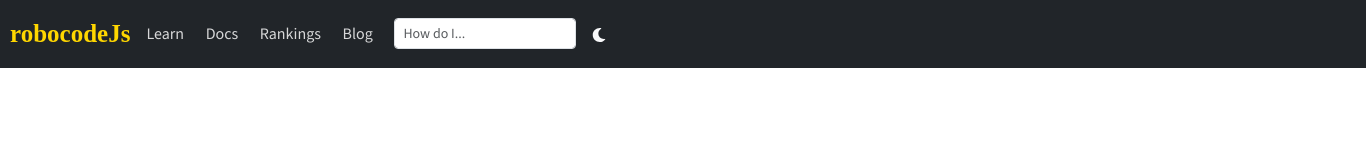
NavBar night-mode toggle › flips the theme from the header and reflects the new state
Click the button named "Switch to night mode".
click(599, 34)  # box [584,18,614,49]
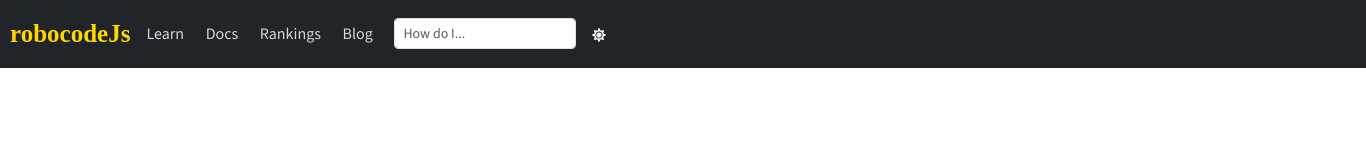
Expected: the button named "Switch to light mode" is shown, [584,18,614,49]
